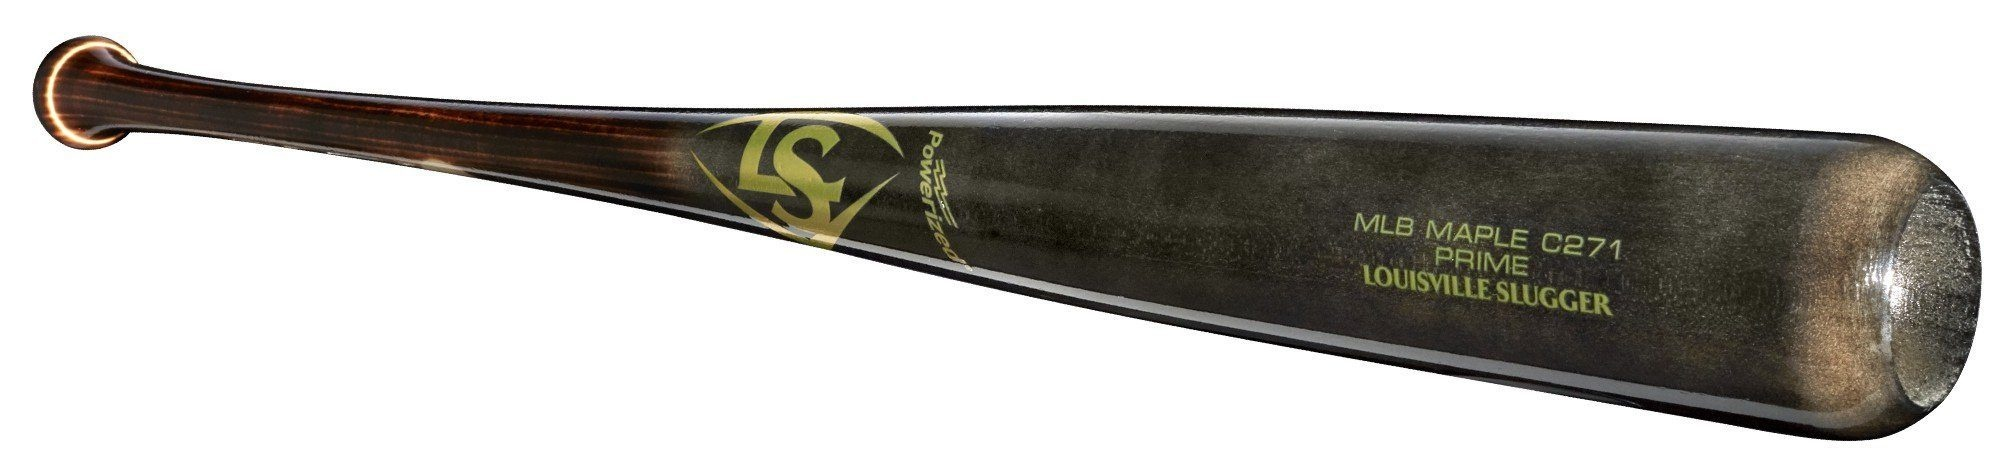bita: (29, 33, 1960, 455)
